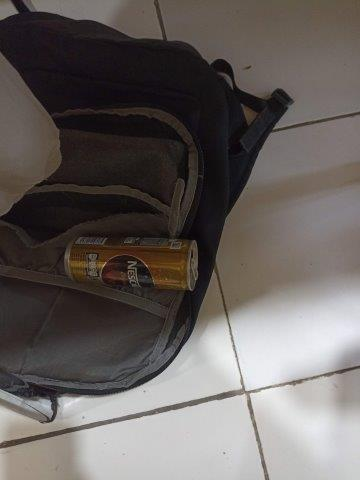kaleng: (64, 235, 199, 291)
